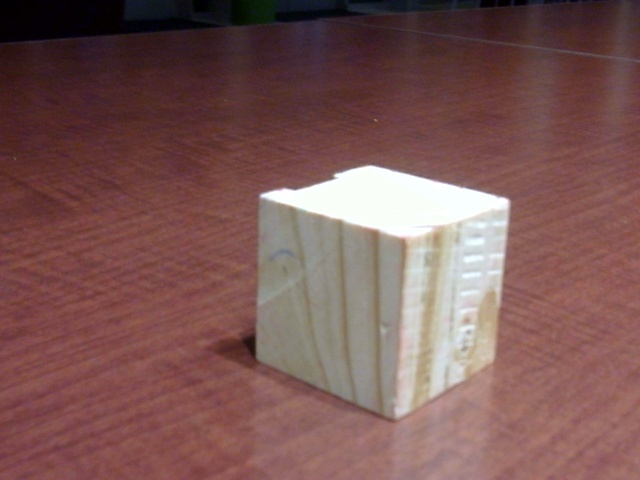NormalBlock: (256, 192, 511, 419)
